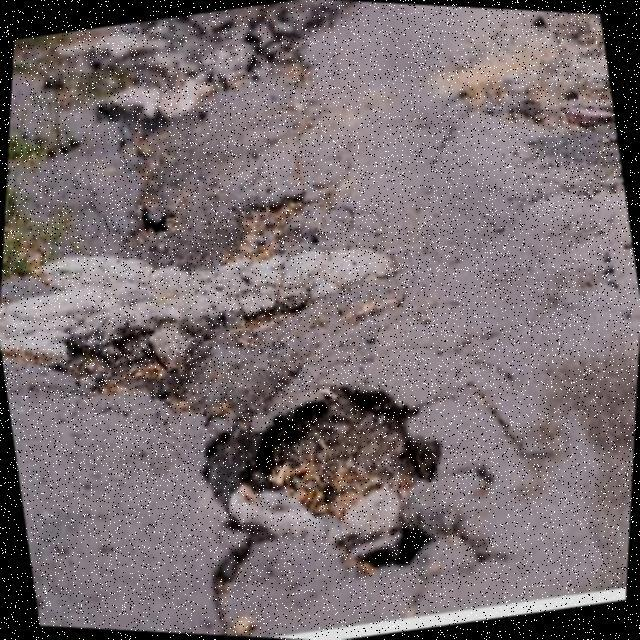Pothole: (5, 270, 400, 416), (208, 386, 443, 602), (13, 2, 357, 140), (452, 11, 614, 133)
